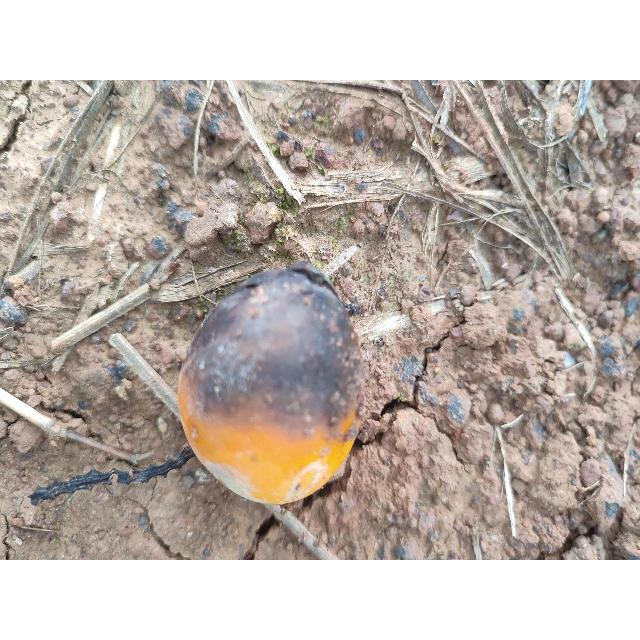damaged: (179, 262, 364, 504)
